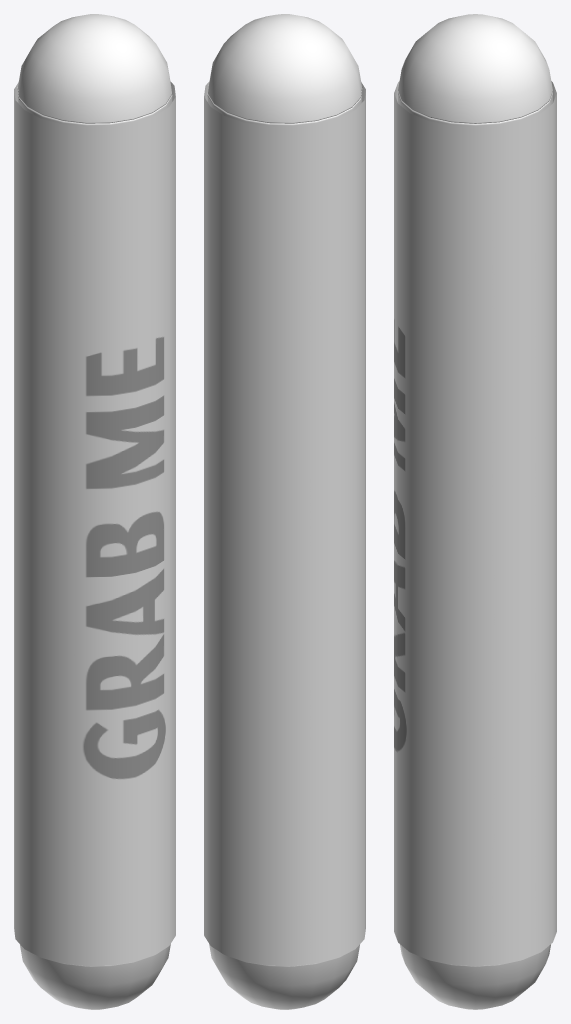
The model's file is CylinderOLG.fbx.
The picture shows the model from 3 angles, left to right: view 1: azimuth 30°, elevation 25°; view 2: azimuth 150°, elevation 25°; view 3: azimuth 270°, elevation 25°; orthographic projection.
Visible parts, largest first — view 1: Text, Cap_02, Cap_01, Base; view 2: Text, Cap_02, Cap_01, Base; view 3: Text, Cap_02, Cap_01, Base.
Boxes of the visible parts, left/top/right/bottom form: Text: left=14, top=82, right=175, bottom=966; Cap_02: left=17, top=14, right=172, bottom=123; Cap_01: left=20, top=944, right=170, bottom=1009; Base: left=17, top=88, right=172, bottom=126; Text: left=204, top=82, right=365, bottom=966; Cap_02: left=207, top=14, right=362, bottom=123; Cap_01: left=209, top=944, right=359, bottom=1009; Base: left=207, top=88, right=362, bottom=126; Text: left=394, top=81, right=556, bottom=966; Cap_02: left=398, top=14, right=552, bottom=123; Cap_01: left=400, top=944, right=550, bottom=1009; Base: left=398, top=92, right=552, bottom=127.
Bounding box in the file's own units: 2.1 × 13.96 × 2.1.
Materials: 2 (1 with a texture image).
